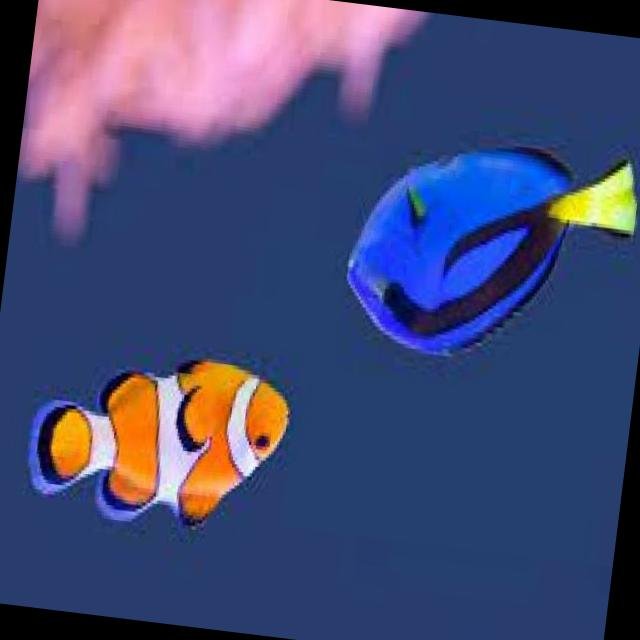BlueTang: (308, 123, 640, 380)
ClownFish: (23, 334, 299, 536)
